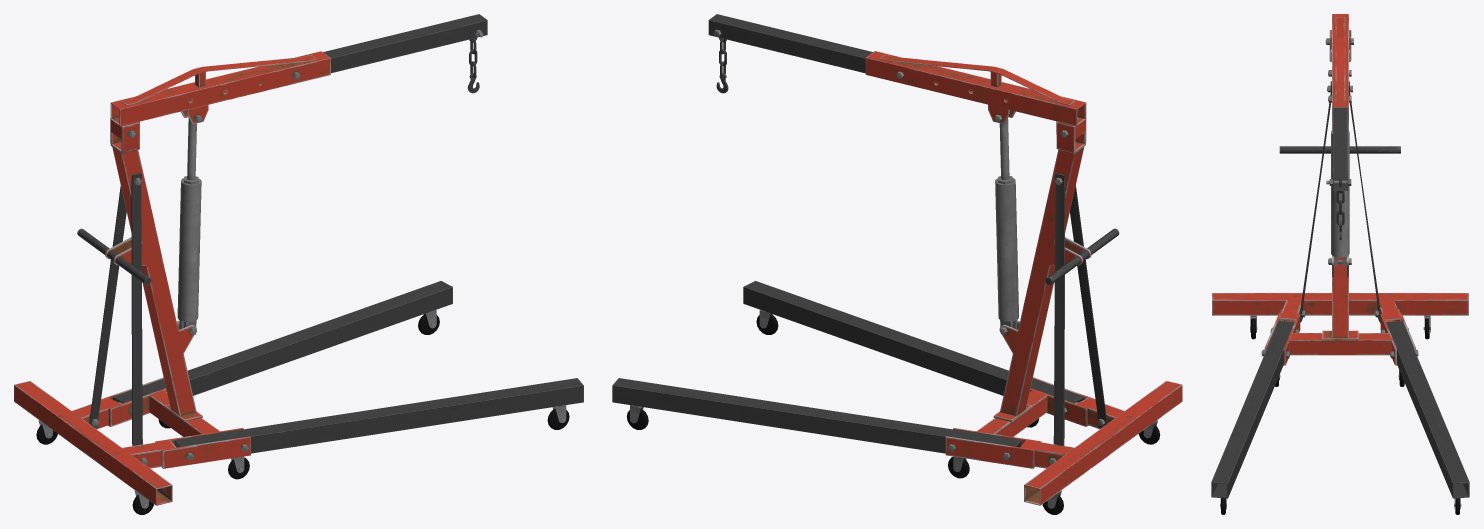
The model's file is engine_hoist_-_engine_crane.glb.
3 renders of one model, left to right at view 1: azimuth 30°, elevation 25°; view 2: azimuth 150°, elevation 25°; view 3: azimuth 270°, elevation 25°, orthographic. The views are drawn at different scales.
Parts seen in each view (by area): view 1: Legs, Bridge, MainFrame, BoomHolder, Support, Boom, HydraulicJack, Wheels, Brackets, Handle; view 2: Legs, Bridge, MainFrame, BoomHolder, Support, Boom, HydraulicJack, Wheels, Brackets, Handle; view 3: Bridge, Legs, MainFrame, BoomHolder, HydraulicJack, Boom, Support, Handle, Wheels, BoltsMain.
Boxes of the visible parts, x1,y1,x2,y2 form: Legs: [113, 281, 583, 453]; Bridge: [14, 377, 250, 505]; MainFrame: [105, 118, 202, 422]; BoomHolder: [110, 51, 330, 126]; Support: [89, 173, 142, 445]; Boom: [323, 14, 487, 73]; HydraulicJack: [177, 118, 201, 329]; Wheels: [36, 313, 569, 514]; Brackets: [38, 310, 566, 508]; Handle: [77, 228, 151, 285]; Legs: [612, 281, 1083, 453]; Bridge: [945, 377, 1182, 505]; MainFrame: [993, 119, 1091, 421]; BoomHolder: [865, 51, 1086, 126]; Support: [1053, 173, 1106, 445]; Boom: [708, 14, 872, 73]; HydraulicJack: [995, 117, 1018, 329]; Wheels: [627, 313, 1159, 514]; Brackets: [630, 310, 1157, 508]; Handle: [1045, 228, 1119, 285]; Bridge: [1212, 293, 1468, 365]; Legs: [1211, 321, 1469, 498]; MainFrame: [1322, 29, 1358, 340]; BoomHolder: [1332, 14, 1348, 122]; HydraulicJack: [1331, 130, 1349, 266]; Boom: [1333, 107, 1348, 190]; Support: [1300, 81, 1380, 321]; Handle: [1279, 146, 1400, 153]; Wheels: [1221, 318, 1459, 514]; BoltsMain: [1325, 38, 1353, 264].
Bounding box in the file's own units: 0.0731 × 0.0623 × 0.042.
Materials: 4 (4 with a texture image).
